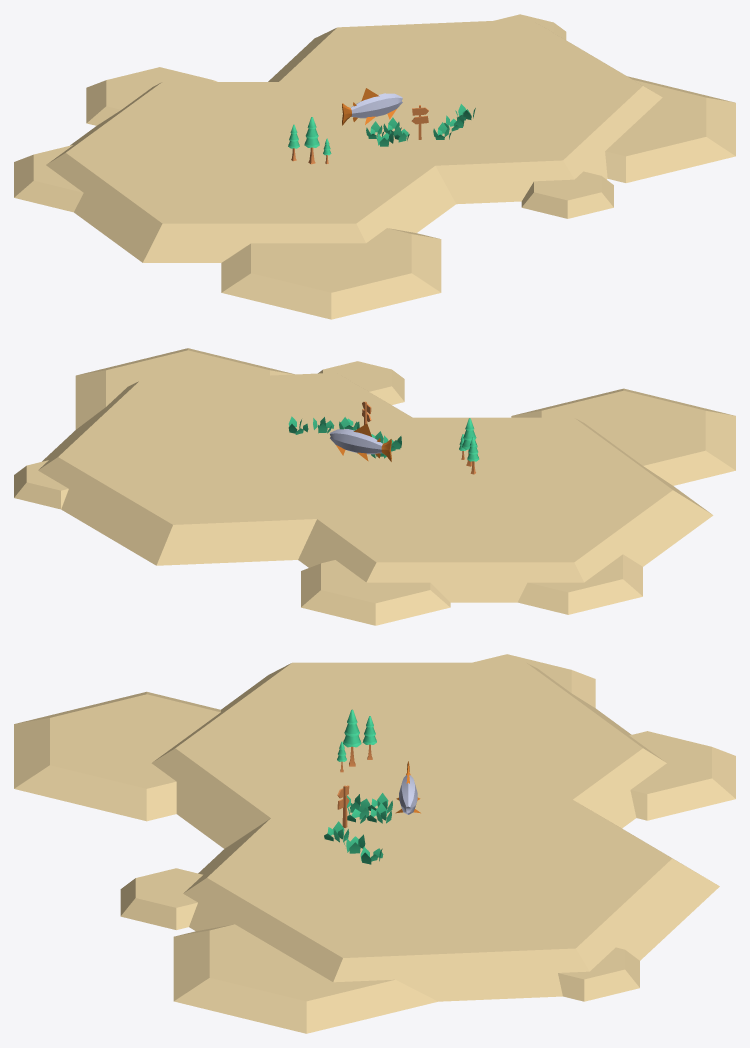
The model's file is island4.glb.
3 views of the same model, one above another, from view 1: azimuth 30°, elevation 25°; view 2: azimuth 150°, elevation 25°; view 3: azimuth 270°, elevation 25° (orthographic). The views are drawn at different scales.
Parts seen in each view (by area): view 1: rockFlat, fish, grassLarge, grass; view 2: rockFlat, fish, grass; view 3: rockFlat, grassLarge, grass, fish.
Boxes of the visible parts, x1,y1,x2,y2 form: rockFlat: (14,14,735,319); fish: (342,88,402,125); grassLarge: (366,117,409,146); grass: (433,104,475,139); rockFlat: (14,348,735,625); fish: (330,423,391,461); grass: (288,416,359,434); rockFlat: (14,654,735,1033); grassLarge: (347,793,392,823); grass: (324,821,383,864); fish: (395,761,420,814).
Size of the model in its own units: 9.04 by 0.9536 by 7.33.
